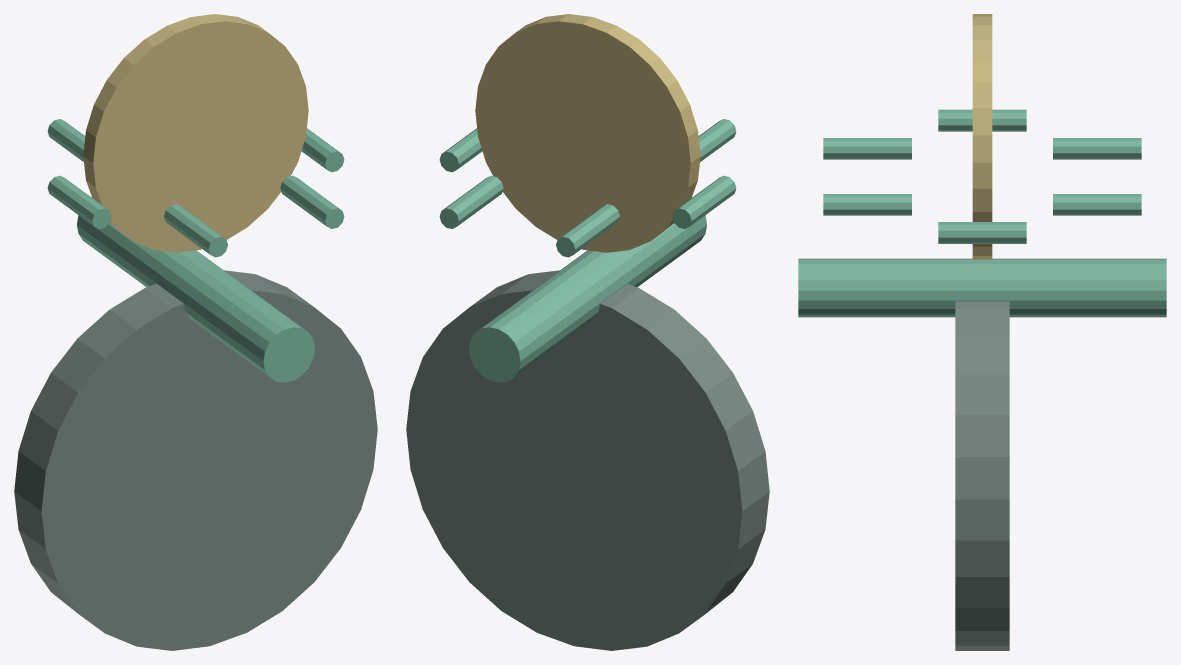
File: chain-hub-high.glb
3 views of the same model, side by side, from view 1: azimuth 30°, elevation 25°; view 2: azimuth 150°, elevation 25°; view 3: azimuth 270°, elevation 25° (orthographic).
Visible parts, largest first — view 1: base, halo, mast, world; view 2: base, halo, mast, world; view 3: mast, base, world, halo.
Part boxes in pixels (left/top/right/bottom): base: left=14, top=270, right=377, bottom=650; halo: left=83, top=14, right=308, bottom=252; mast: left=77, top=197, right=314, bottom=382; world: left=47, top=119, right=344, bottom=257; base: left=406, top=270, right=769, bottom=650; halo: left=475, top=14, right=700, bottom=252; mast: left=469, top=197, right=706, bottom=382; world: left=439, top=119, right=736, bottom=257; mast: left=798, top=258, right=1166, bottom=317; base: left=955, top=301, right=1009, bottom=650; world: left=823, top=109, right=1141, bottom=243; halo: left=972, top=14, right=992, bottom=259.
Bounding box in the file's own units: 1.56 × 2.73 × 1.5.
